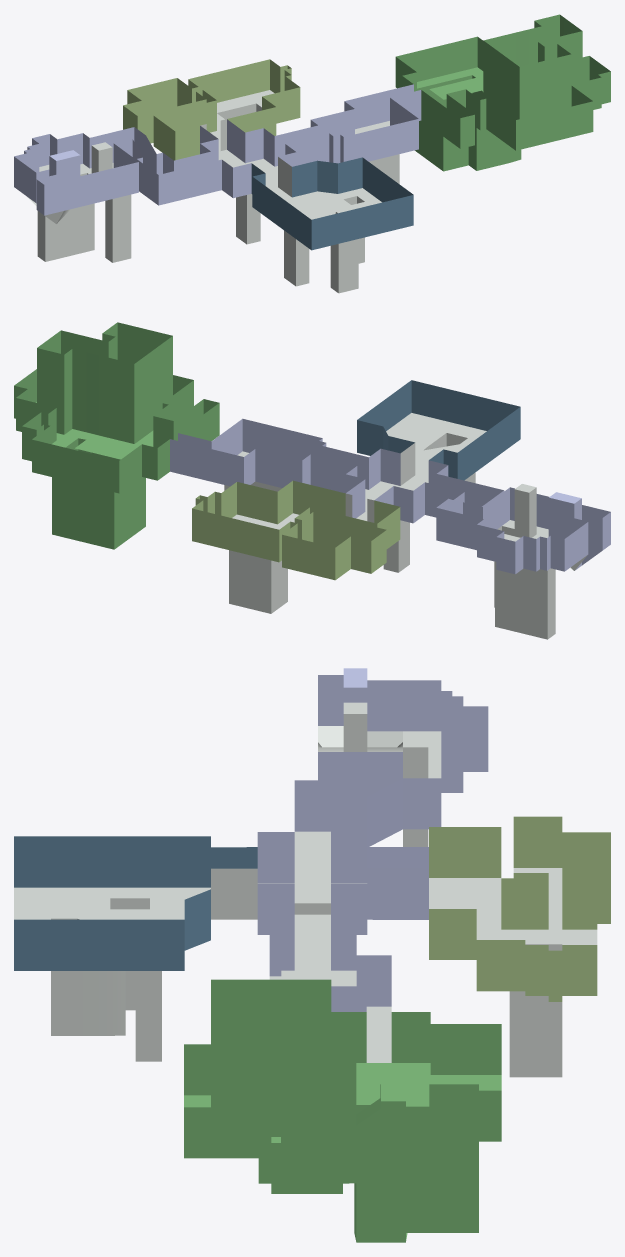
Rendered from SM_LevelBlockout.fbx.
3 renders of one model, top to bottom at view 1: azimuth 30°, elevation 25°; view 2: azimuth 150°, elevation 25°; view 3: azimuth 270°, elevation 25°, orthographic. The views are drawn at different scales.
Visible parts, largest first — view 1: levelBlockout_geo; view 2: levelBlockout_geo; view 3: levelBlockout_geo.
Boxes of the visible parts, x1,y1,x2,y2 form: levelBlockout_geo: (14,14,610,293); levelBlockout_geo: (14,322,610,639); levelBlockout_geo: (14,668,610,1242).
Size of the model in its own units: 17518 by 4110 by 9827.
Materials: 1 (1 with a texture image).
